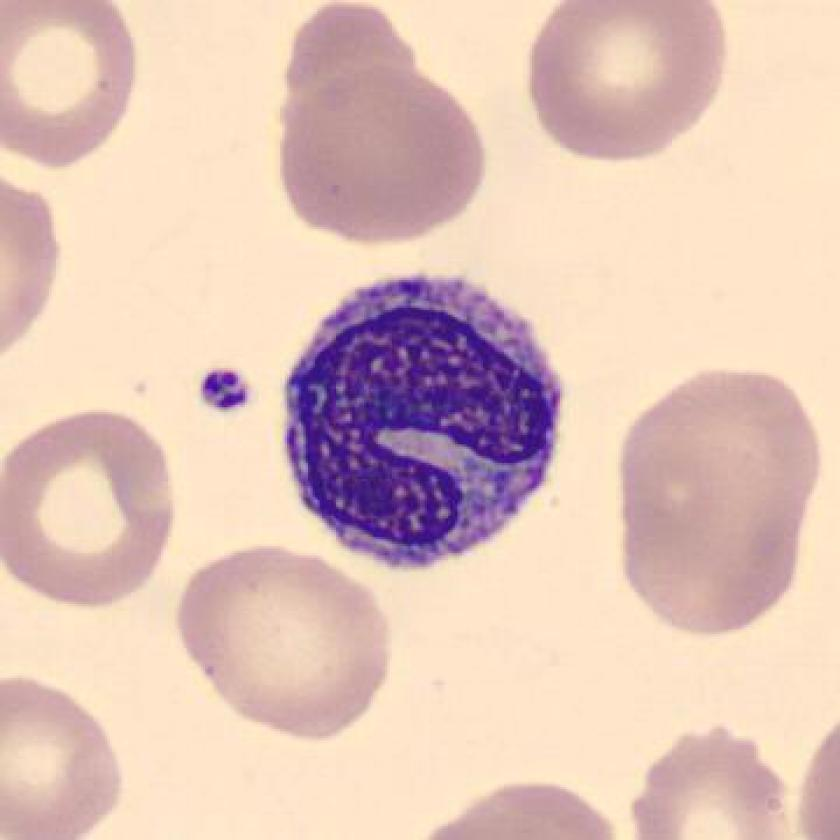monocyte: (258, 251, 580, 586)
